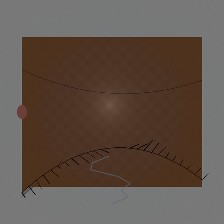foreign_body_visible: (91, 108, 120, 131)
